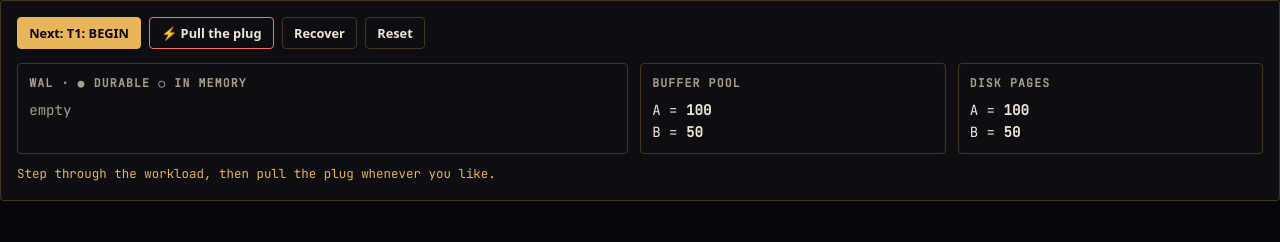
WAL crash recovery › loses nothing durable when crashing before any commit
The image size is (1280, 242).
Click the button "Next: T1: BEGIN" at [79, 33], box [17,17,141,49]
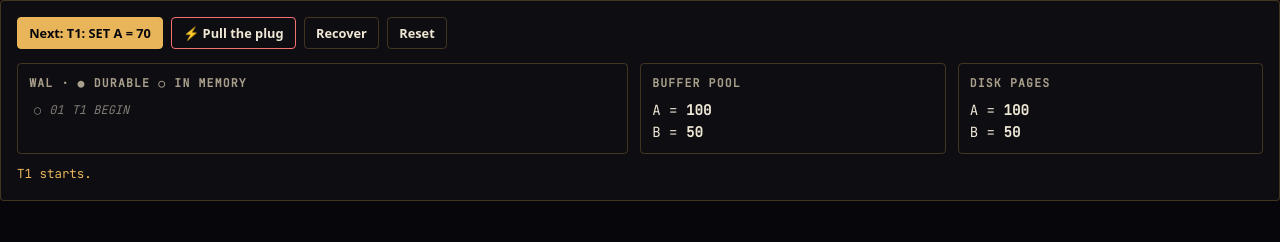
Click the button "Next: T1: SET A = 70" at [90, 33], box [17,17,163,49]
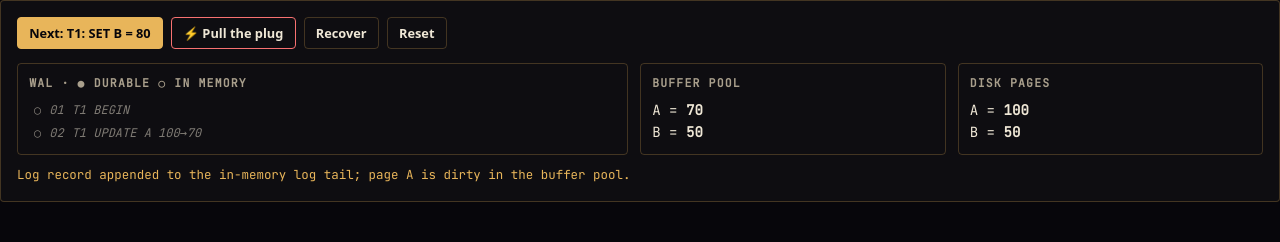
Click the button "Next: T1: SET B = 80" at [90, 33], box [17,17,163,49]
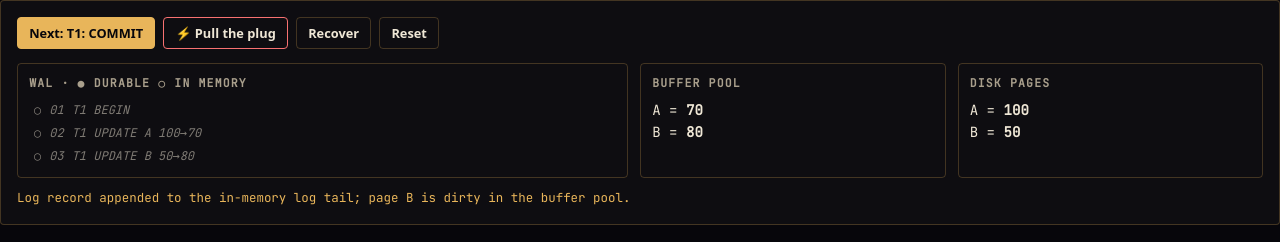
Click the button "⚡ Pull the plug" at [226, 33], box [163,17,288,49]
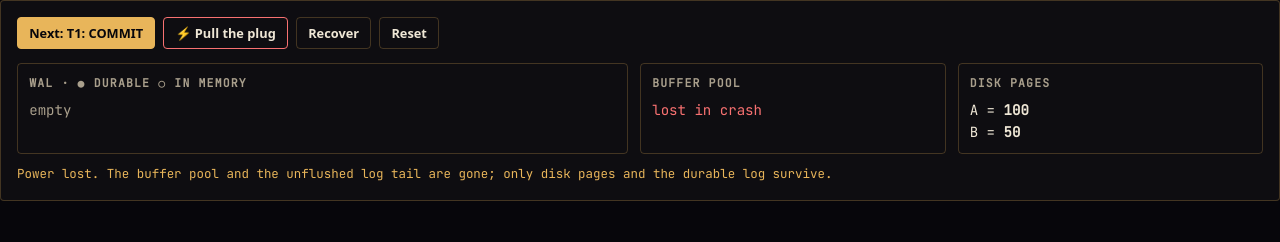
Click the button "Recover" at [334, 33], box [296,17,371,49]
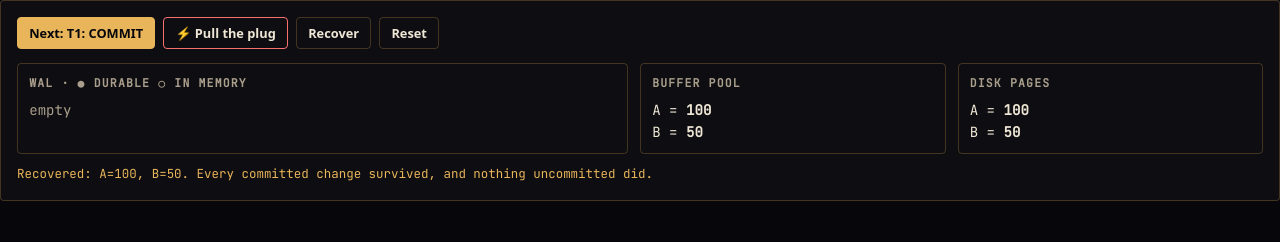
Result: the text "Recovered:" shows "A=100, B=50" at [17,165,653,182]
